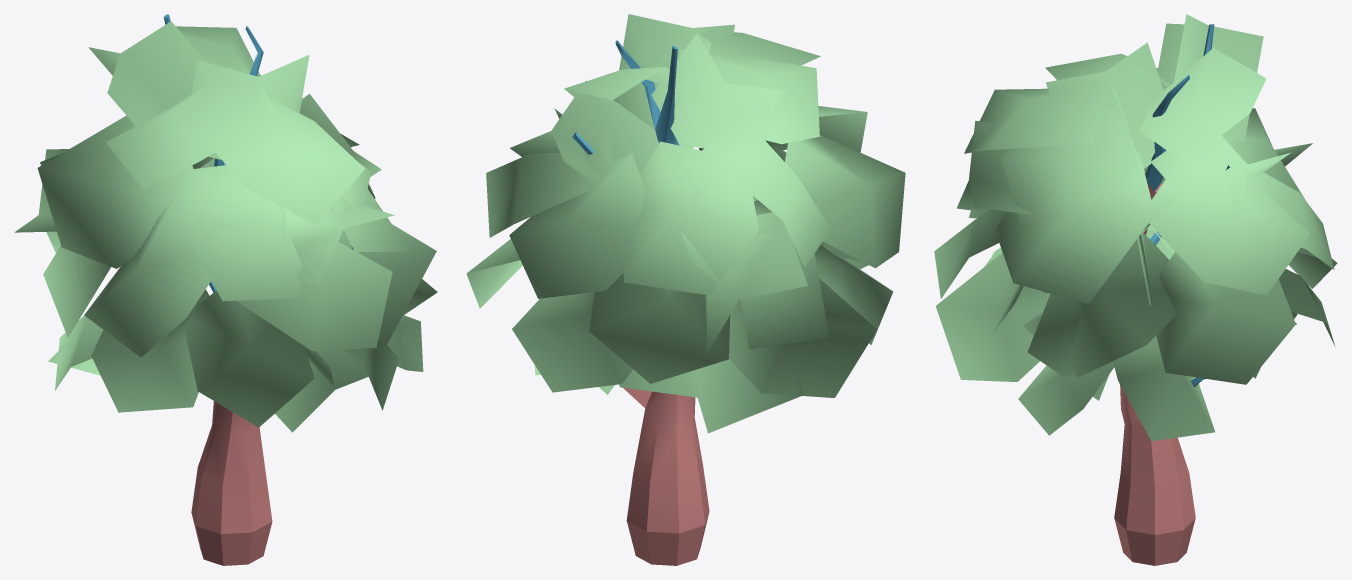
File: treeB_03.fbx
The picture shows the model from 3 angles, left to right: view 1: azimuth 30°, elevation 25°; view 2: azimuth 150°, elevation 25°; view 3: azimuth 270°, elevation 25°; orthographic projection. The views are drawn at different scales.
Visible parts, largest first — view 1: treeB_v3; view 2: treeB_v3; view 3: treeB_v3.
Part boxes in pixels (<box>): treeB_v3: <box>14,14,437,565</box>; treeB_v3: <box>466,14,905,565</box>; treeB_v3: <box>934,14,1337,565</box>.
Bounding box in the file's own units: 322 × 486 × 344.
